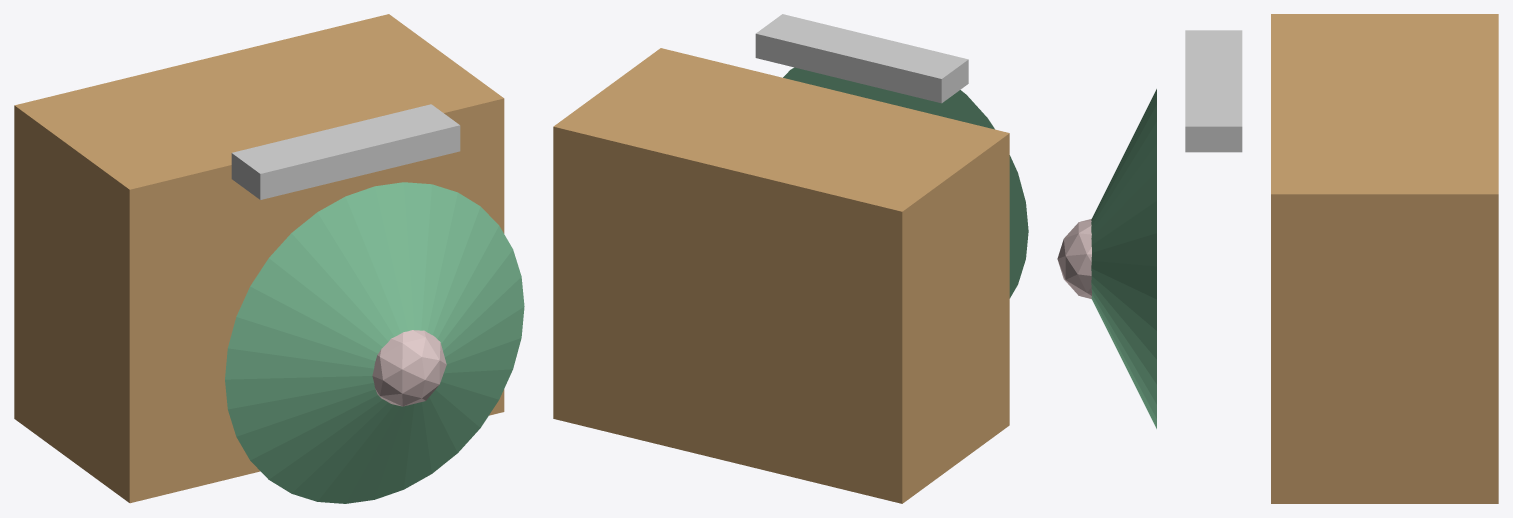
File: building-pet-shop-refined.glb
3 renders of one model, left to right at view 1: azimuth 30°, elevation 25°; view 2: azimuth 150°, elevation 25°; view 3: azimuth 270°, elevation 25°, orthographic. The views are drawn at different scales.
Parts seen in each view (by area): view 1: world; view 2: world; view 3: world.
Part boxes in pixels (box(x1,y1,x2,y2)): world: box(14, 14, 524, 503); world: box(553, 14, 1028, 503); world: box(1057, 14, 1498, 503).
Bounding box in the file's own units: 15 × 13 × 15.5.
